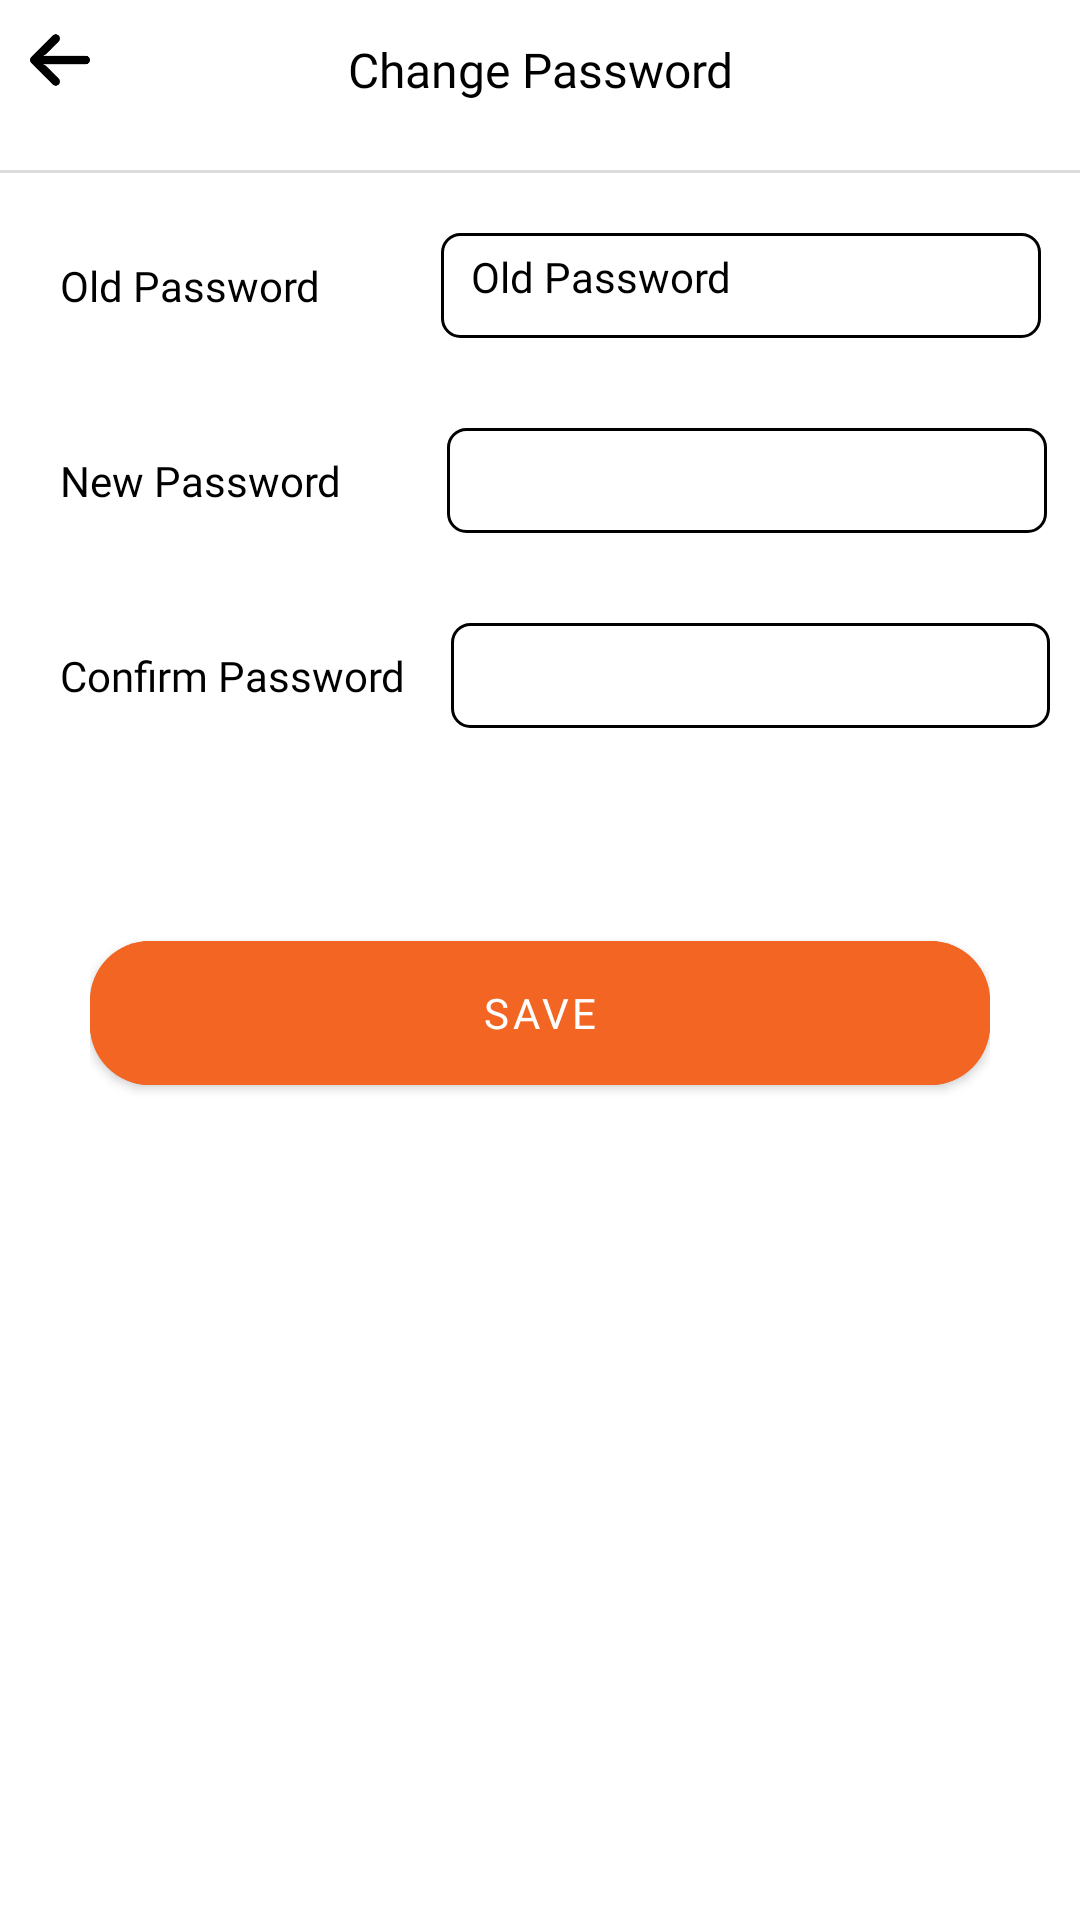

Icon bounding boxes for this 1080px×1920px phone screenshot, format bbox=[x1, y1, x2, y2]:
back: bbox=[30, 34, 90, 86]
